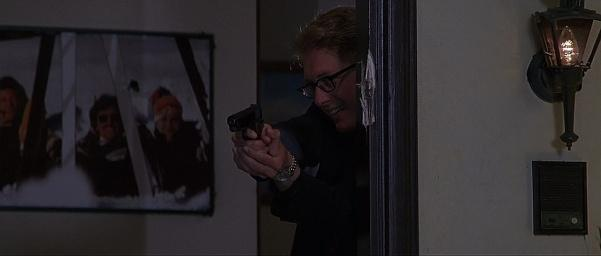Gun: (227, 104, 266, 141)
